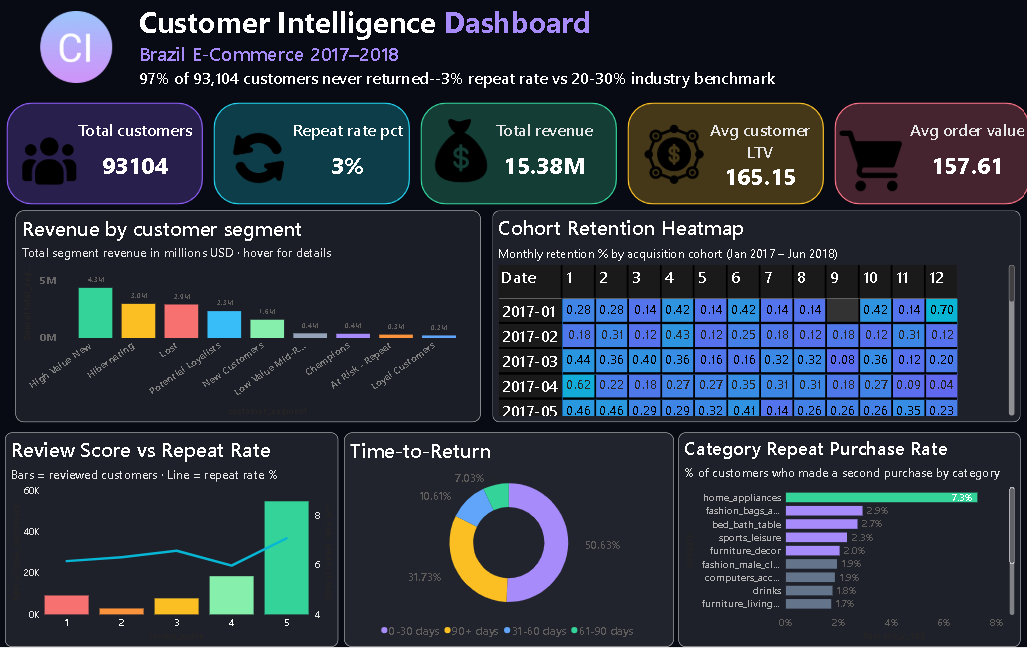

The page's visual inventory and layout, read from the dashboard file:
{"tool":"powerbi","page":{"name":"Page 1","canvas":[1720,1080],"ordinal":0},"visuals":[{"type":"textbox","box":[227.5,0,1085,172.5],"z":0},{"type":"shape","box":[12.5,172.5,327.5,170],"z":1000},{"type":"kpi","title":"Total customers","fields":{"Indicator":["Sum(kpi_summary.total_customers)"],"TrendLine":["kpi_summary.dumyaxis"]},"box":[112.5,200,227.5,115],"z":2000},{"type":"shape","box":[357.5,172.5,327.5,170],"z":3000},{"type":"shape","box":[702.5,172.5,327.5,170],"z":4000},{"type":"shape","box":[1047.5,172.5,327.5,170],"z":5000},{"type":"shape","box":[1392.5,172.5,327.5,170],"z":6000},{"type":"kpi","title":"Avg order value","fields":{"TrendLine":["kpi_summary.dumyaxis"],"Indicator":["Sum(kpi_summary.avg_order_value)"]},"box":[1507.5,200,212.5,115],"z":7000},{"type":"kpi","title":"Avg customer LTV","fields":{"TrendLine":["kpi_summary.dumyaxis"],"Indicator":["Sum(kpi_summary.avg_customer_ltv)"]},"box":[1162.5,200,212.5,115],"z":8000},{"type":"kpi","title":"Total revenue","fields":{"TrendLine":["kpi_summary.dumyaxis"],"Indicator":["Sum(kpi_summary.total_revenue)"]},"box":[802.5,200,212.5,115],"z":9000},{"type":"kpi","title":"Repeat rate pct","fields":{"TrendLine":["kpi_summary.dumyaxis"],"Indicator":["Sum(kpi_summary.Division)"]},"box":[475,200,212.5,115],"z":10000},{"type":"clusteredColumnChart","title":"Revenue by customer segment","fields":{"Category":["rfm_summary.customer_segment"],"Y":["Sum(rfm_summary.total_segment_revenue)"]},"box":[27.5,352.5,775,352.5],"z":11000},{"type":"lineClusteredColumnComboChart","title":"Review Score vs Repeat Rate","fields":{"Y2":["Sum(review_repeat.repeat_rate_pct)"],"Y":["Sum(review_repeat.total_customers)"],"Category":["review_repeat.review_score"]},"box":[10,722.5,555,357.5],"z":12000},{"type":"donutChart","title":"Time-to-Return","fields":{"Category":["time_to_return.return_window"],"Y":["Sum(time_to_return.pct_of_repeat_customers)"]},"box":[575,722.5,550,357.5],"z":13000},{"type":"clusteredBarChart","title":"Category Repeat Purchase Rate","fields":{"Category":["category_repeat.category"],"Y":["Sum(category_repeat.r_x_100)"]},"box":[1132.5,722.5,570,357.5],"z":14000},{"type":"pivotTable","title":"Cohort Retention Heatmap","fields":{"Values":["Sum(cohort_data_v2.retention_rate_pct)"],"Columns":["cohort_data_v2.month_number"],"Rows":["cohort_data_v2.d_cohort"]},"box":[822.5,352.5,880,352.5],"z":15000},{"type":"image","box":[27.5,225,112.5,90],"z":15001},{"type":"image","box":[360,215,145,100],"z":15002},{"type":"image","box":[702.5,200,135,105],"z":15003},{"type":"image","box":[987.5,202.5,275,112.5],"z":15004},{"type":"image","box":[1375,215,157.5,105],"z":15005},{"type":"image","box":[0,20,257.5,120],"z":15006}]}

Visuals, with their boxes in screenshot pixels (x1, y1, x2, y2), scaled from the page's 1720x1080 canvas onto the 1027x648 screenshot:
textbox: 136:0:784:104
shape: 7:104:203:206
"Total customers" kpi: 67:120:203:189
shape: 213:104:409:206
shape: 419:104:615:206
shape: 625:104:821:206
shape: 831:104:1026:206
"Avg order value" kpi: 900:120:1026:189
"Avg customer LTV" kpi: 694:120:821:189
"Total revenue" kpi: 479:120:606:189
"Repeat rate pct" kpi: 284:120:411:189
"Revenue by customer segment" clusteredColumnChart: 16:212:479:423
"Review Score vs Repeat Rate" lineClusteredColumnComboChart: 6:434:337:647
"Time-to-Return" donutChart: 343:434:672:647
"Category Repeat Purchase Rate" clusteredBarChart: 676:434:1017:647
"Cohort Retention Heatmap" pivotTable: 491:212:1017:423
image: 16:135:84:189
image: 215:129:302:189
image: 419:120:500:183
image: 590:122:754:189
image: 821:129:915:192
image: 0:12:154:84
